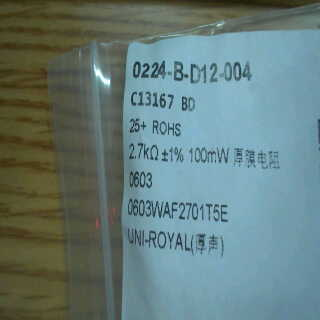2.7kR: (123, 139, 159, 165)
